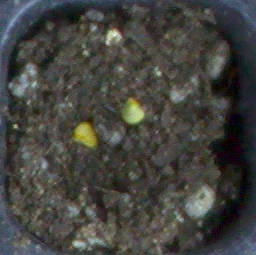chilli seed: (120, 97, 144, 124), (73, 123, 97, 148)
